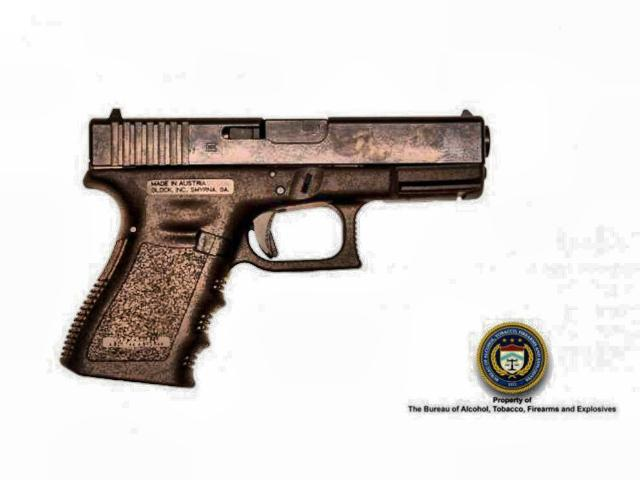pistol: (52, 103, 492, 403)
